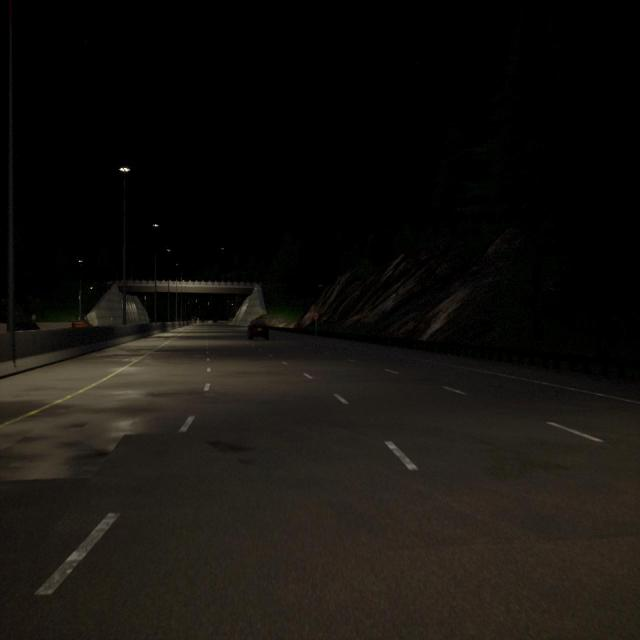Traffic_Signs: (314, 312, 318, 320), (110, 317, 113, 320)
Vehicle: (7, 307, 40, 330), (248, 320, 270, 340), (72, 319, 92, 328)
